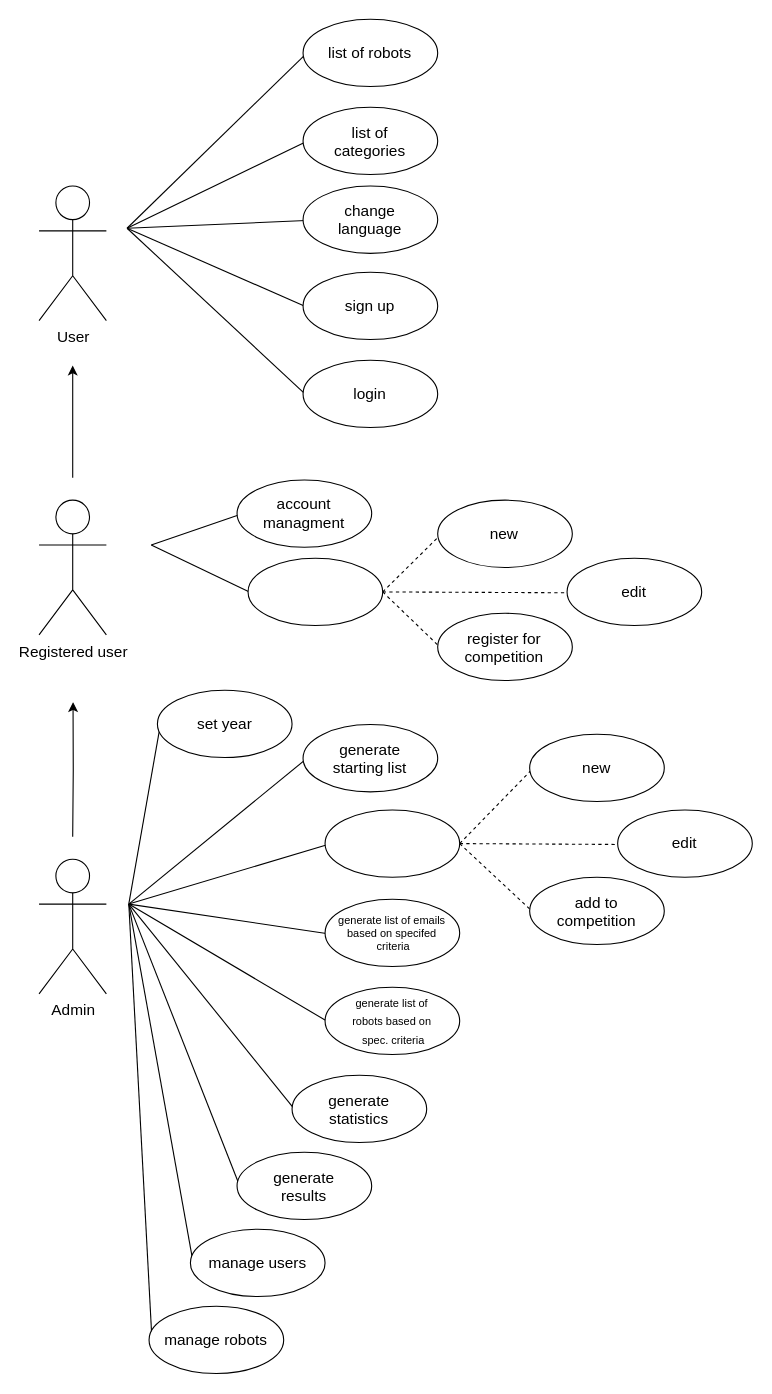
The diagram is 772 pixels wide and 1394 high, and some of its shapes have lost their labels. Each missing label, with the box of its shape:
categories managment: (324, 809, 460, 877)
robot managment: (247, 557, 383, 626)
